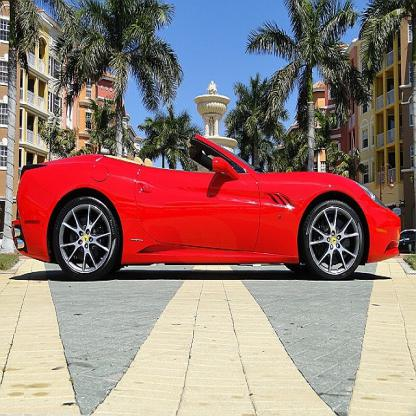Vehicle: (13, 136, 402, 284)
